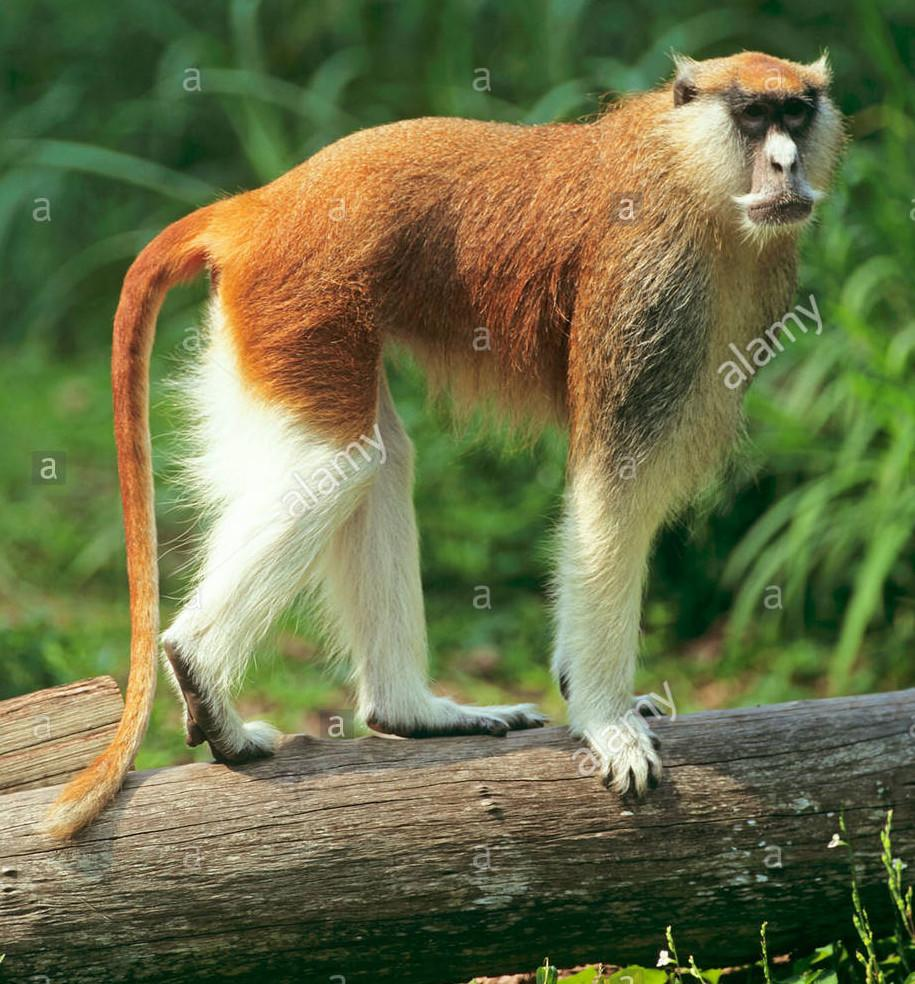monkey: (124, 53, 829, 798)
